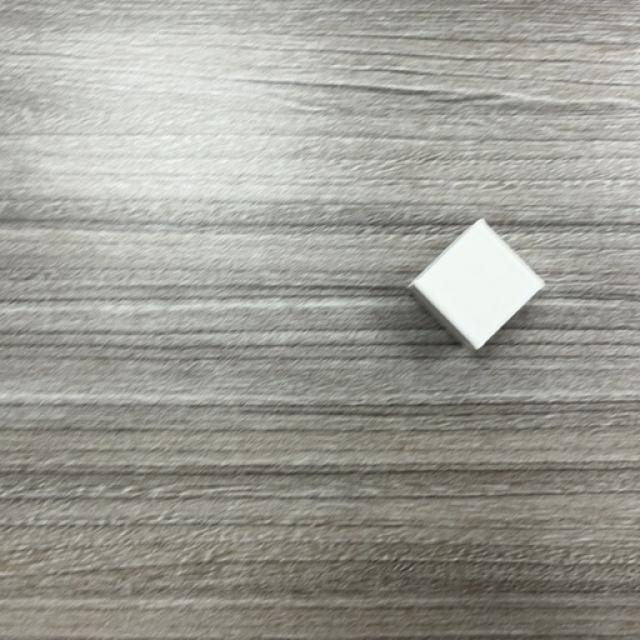Blanco: (409, 221, 545, 351)
